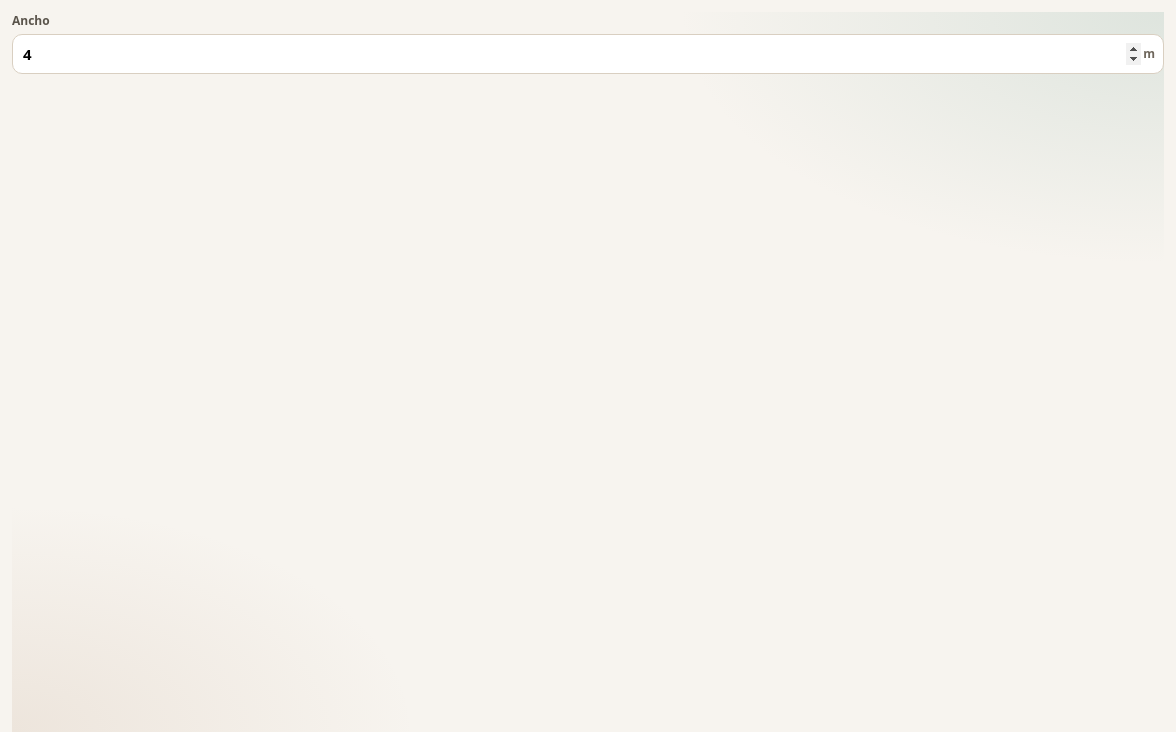
Test: MeasureInput › reports the clamped value only when the field loses focus
Step 1. Replace the text in the number field labelled "Ancho m" with "35" → point(588, 54), box [12,34,1164,74]
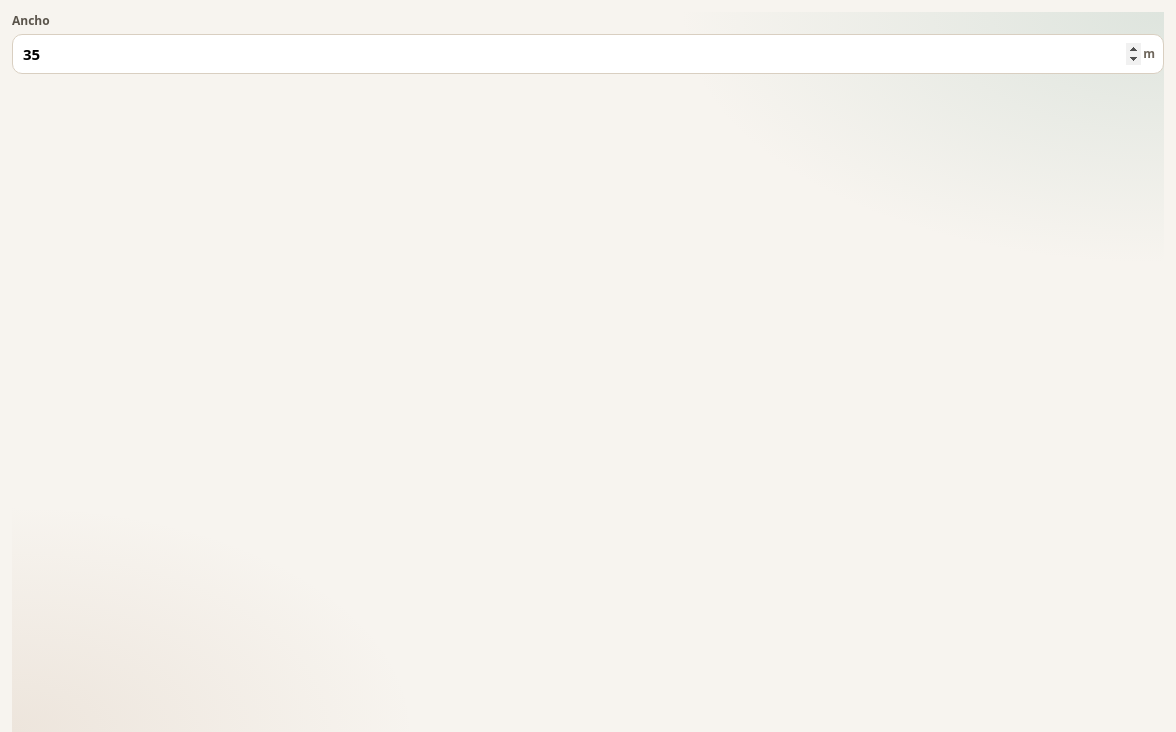
Step 2. Leave the number field labelled "Ancho m", box [12,34,1164,74]
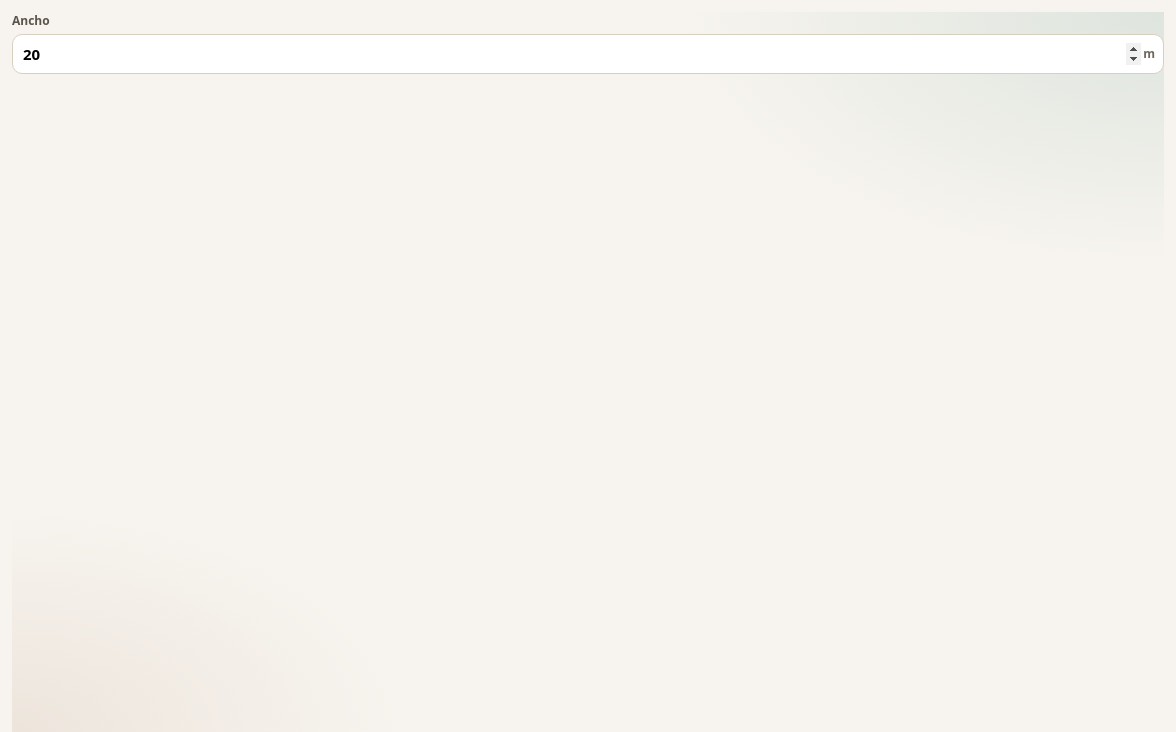
Expected: the number field labelled "Ancho m" holds "20", [12,34,1164,74]
